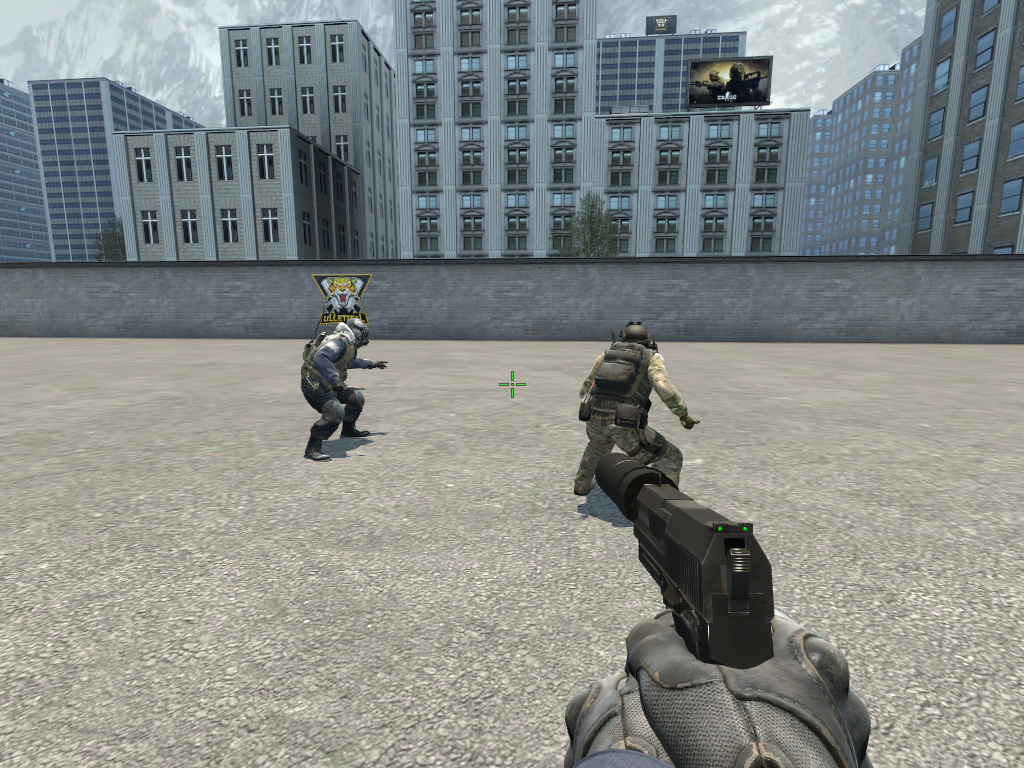ct head: (618, 318, 657, 355), (335, 318, 376, 351)
